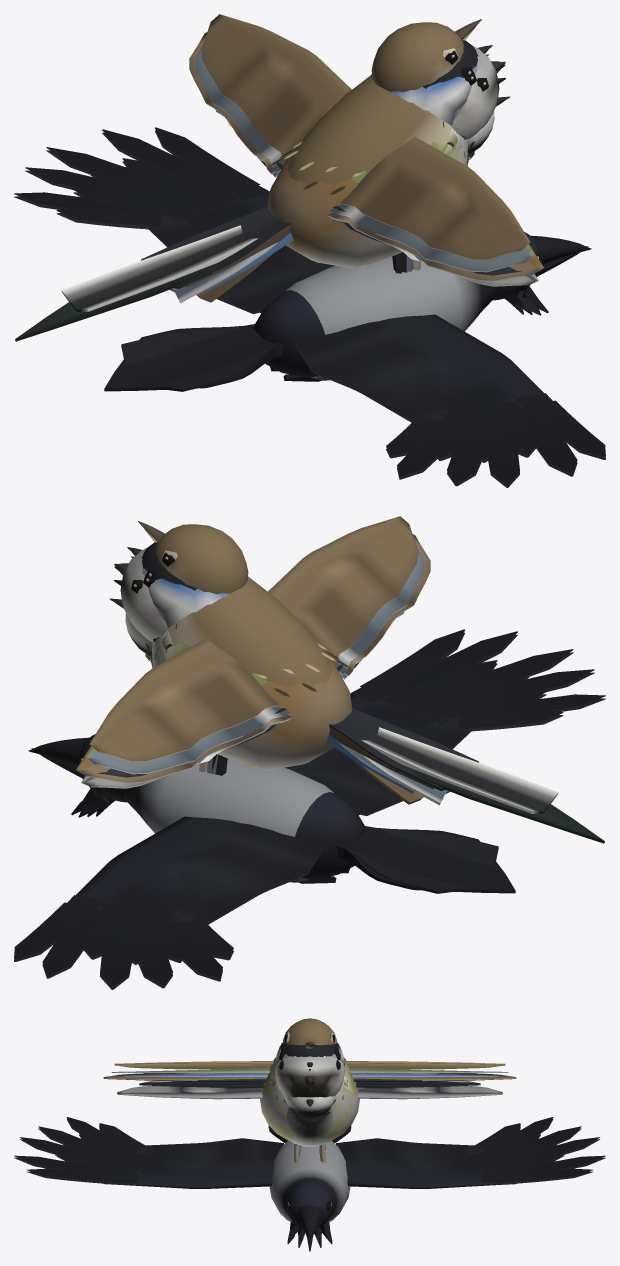
File: birds.glb
The picture shows the model from 3 angles, top to bottom: view 1: azimuth 30°, elevation 25°; view 2: azimuth 150°, elevation 25°; view 3: azimuth 270°, elevation 25°; orthographic projection. The views are drawn at different scales.
Parts seen in each view (by area): view 1: crow-vinge-n, thrush-vinge-n, crow-vinge-f, raven-vinge-n, thrush-vinge-f, crow, thrush, raven-vinge-f, sparrow, raven-stjart, wagtail-stjart, thrush-huvud (+14 smaller); view 2: crow-vinge-f, thrush-vinge-f, crow-vinge-n, raven-vinge-f, thrush-vinge-n, crow, thrush, raven-vinge-n, sparrow, raven-stjart, wagtail-stjart, thrush-huvud (+14 smaller); view 3: crow-vinge-f, crow-vinge-n, raven-vinge-n, raven-vinge-f, crow, sparrow-huvud, raven-huvud, sparrow, wagtail-vinge-f, wagtail-vinge-n, wagtail, thrush-huvud (+16 smaller).
Boxes of the visible parts, x1,y1,x2,y2 form: crow-vinge-n: (295,315,578,462); thrush-vinge-n: (340,136,530,260); crow-vinge-f: (56,151,334,313); raven-vinge-n: (300,314,605,487); thrush-vinge-f: (201,14,351,161); crow: (270,256,489,381); thrush: (287,75,474,184); raven-vinge-f: (14,127,293,312); sparrow: (267,134,467,268); raven-stjart: (104,324,282,391); wagtail-stjart: (61,225,257,311); thrush-huvud: (371,19,481,92); crow-vinge-f: (41,817,324,964); thrush-vinge-f: (89,638,279,762); crow-vinge-n: (285,653,563,815); raven-vinge-f: (14,816,319,989); thrush-vinge-n: (268,516,418,663); crow: (130,758,349,883); thrush: (145,577,332,686); raven-vinge-n: (304,629,605,814); sparrow: (152,636,352,770); raven-stjart: (337,826,515,893); wagtail-stjart: (362,727,558,813); thrush-huvud: (138,521,248,594); crow-vinge-f: (336,1123,564,1182); crow-vinge-n: (55,1123,283,1182); raven-vinge-n: (14,1117,272,1188); raven-vinge-f: (347,1117,605,1188); crow: (269,1141,350,1221); sparrow-huvud: (275,1056,344,1097); raven-huvud: (287,1184,332,1251); sparrow: (260,1081,359,1139); wagtail-vinge-f: (357,1086,502,1099); wagtail-vinge-n: (117,1086,262,1099); wagtail: (286,1107,334,1146); thrush-huvud: (282,1018,337,1046).
Size of the model in its own units: 1.52 by 0.8311 by 2.15.
